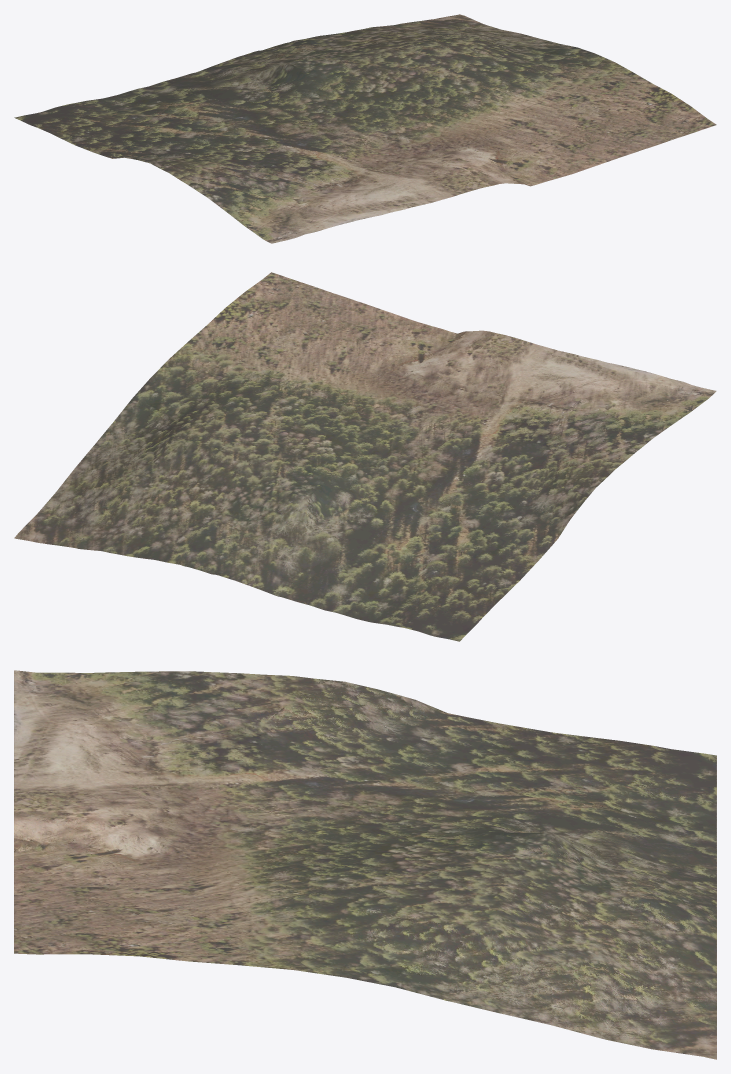
Rendered from CM_Terrain_24493121_6816927.fbx.
3 renders of one model, top to bottom at view 1: azimuth 30°, elevation 25°; view 2: azimuth 150°, elevation 25°; view 3: azimuth 270°, elevation 25°, orthographic. The views are drawn at different scales.
Visible parts, largest first — view 1: CM_Terrain_24493121_6816927_LOD0; view 2: CM_Terrain_24493121_6816927_LOD0; view 3: CM_Terrain_24493121_6816927_LOD0.
Part boxes in pixels (box(x1,y1,x2,y2)): CM_Terrain_24493121_6816927_LOD0: box(14, 14, 716, 243); CM_Terrain_24493121_6816927_LOD0: box(14, 272, 716, 641); CM_Terrain_24493121_6816927_LOD0: box(14, 670, 716, 1059).
Size of what is drawn, in the model's own units: 205 by 34.13 by 205.
